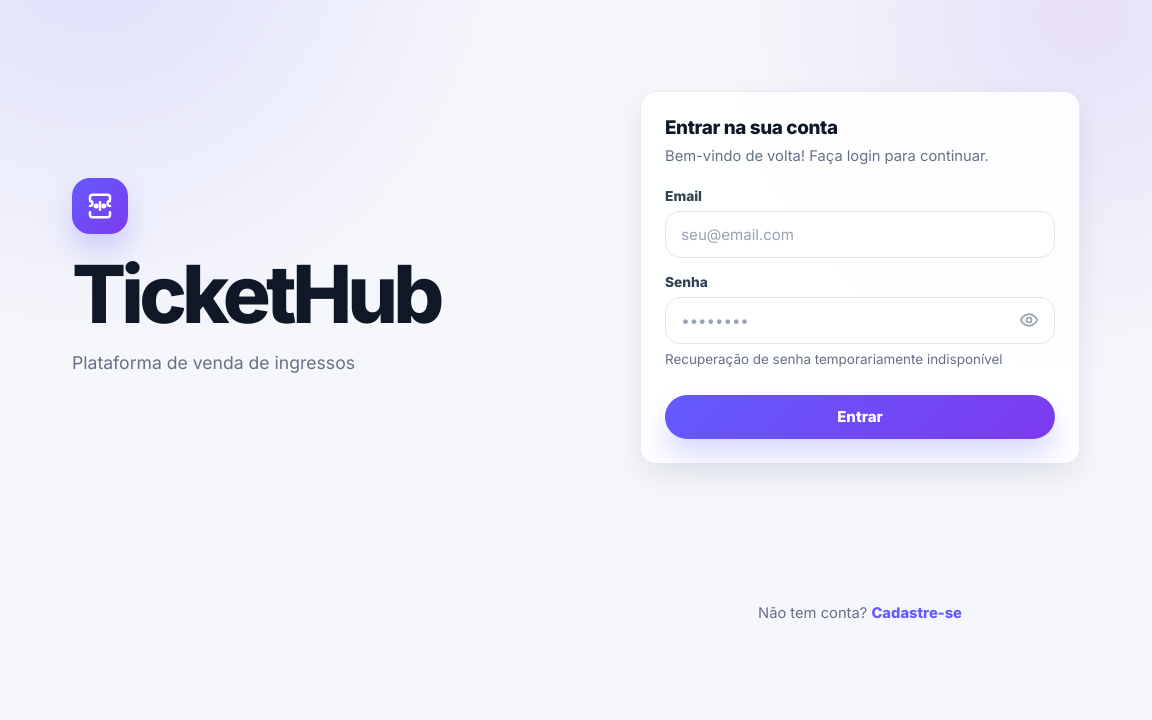
Scenario: Login page › mostra erro quando credenciais são rejeitadas
Type "ana@example.com" into the field labelled "Email" at (860, 234), box [665, 211, 1055, 258]
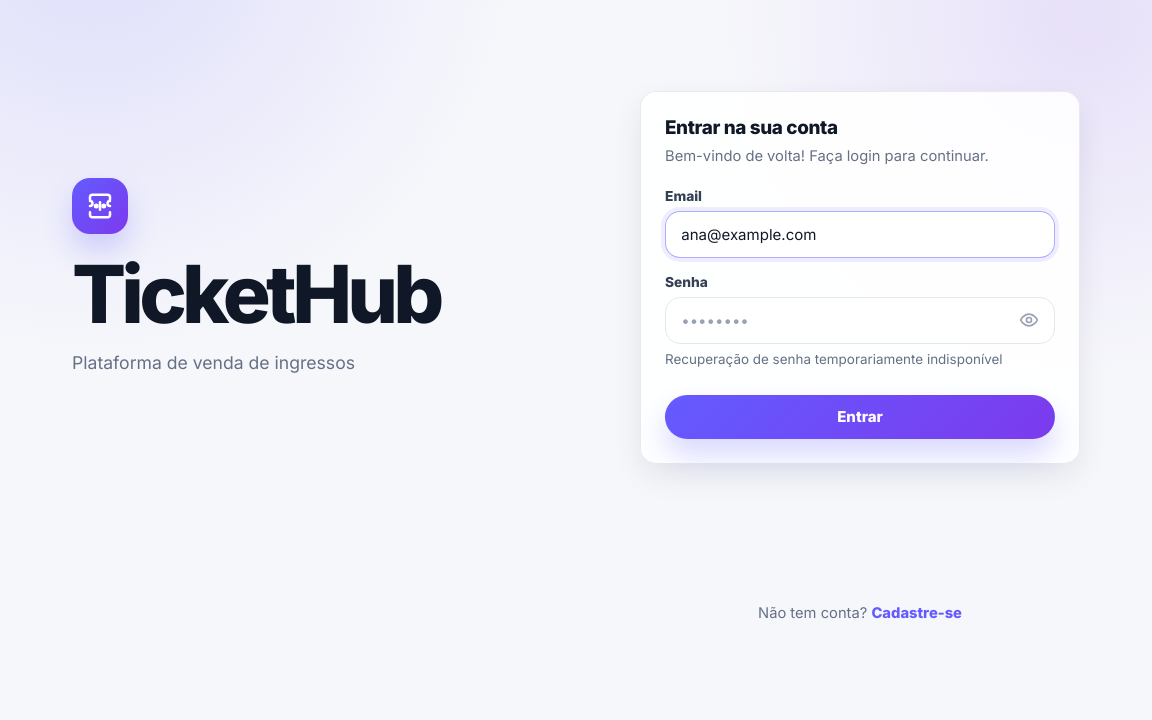
Type "senha-incorreta" into the password field labelled "Senha" at (860, 320), box [665, 297, 1055, 344]
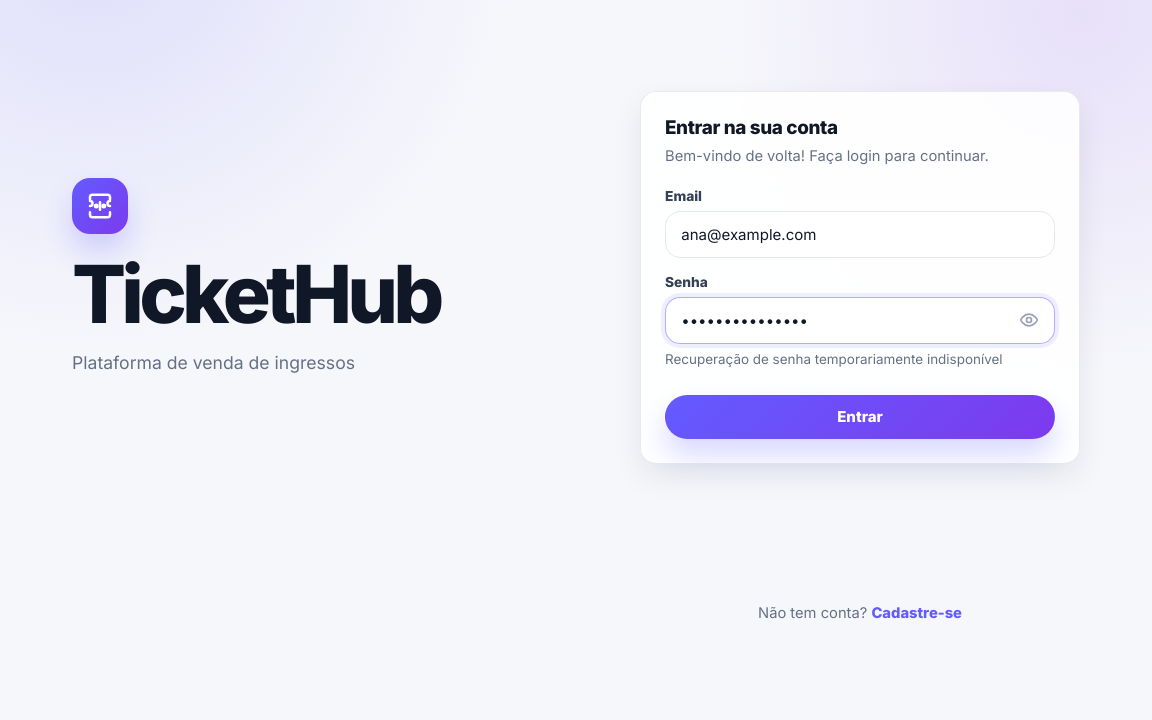
Click the button "Entrar" at (860, 417), box [665, 395, 1055, 439]
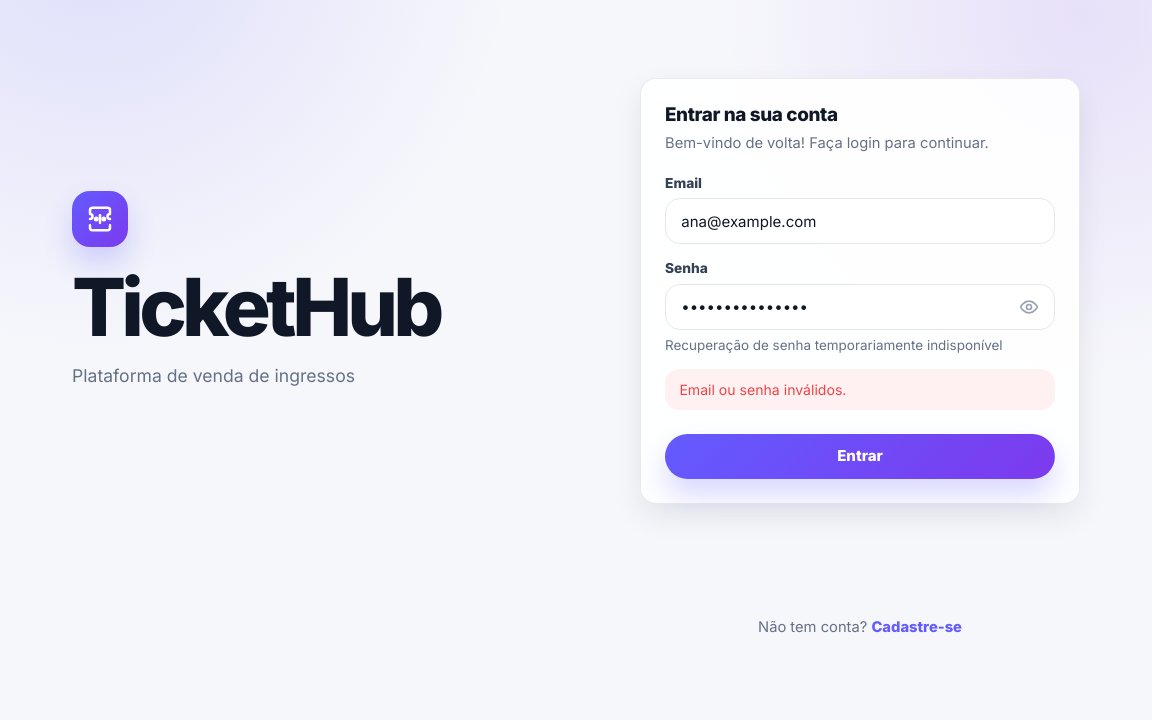
Check: the text "Email ou senha inválidos." is shown, box [665, 370, 1055, 410]
